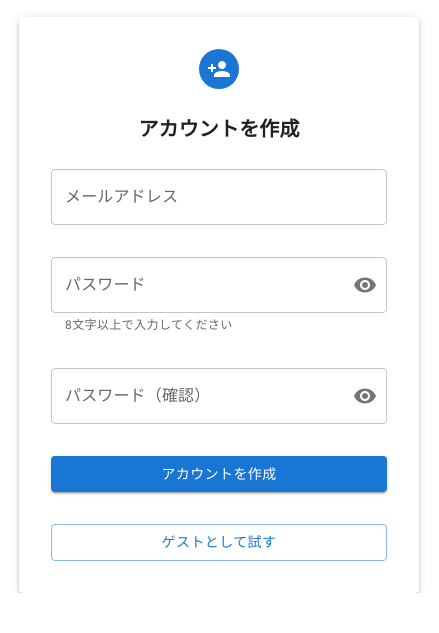
Test: AuthForm 異常系 › パスワードとパスワード確認が一致しないとエラーが表示され、送信できないこと
This screenshot has width=439, height=633.
Type "test@example.com" into the field labelled "メールアドレス".
click(219, 197); type("test@example.com")  # box [51, 169, 387, 225]
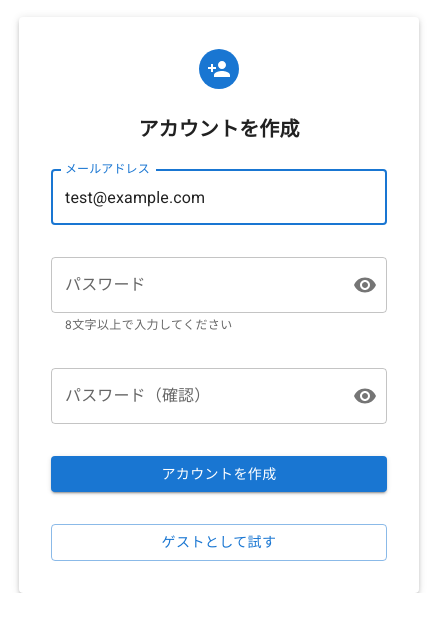
Type "password" into the password field labelled "パスワード".
click(194, 285); type("password")  # box [51, 257, 337, 313]
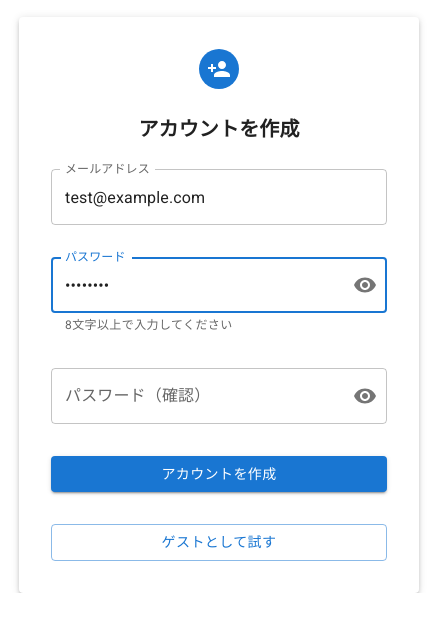
Type "wrong-password" into the password field labelled "パスワード（確認）".
click(194, 396); type("wrong-password")  # box [51, 368, 337, 424]
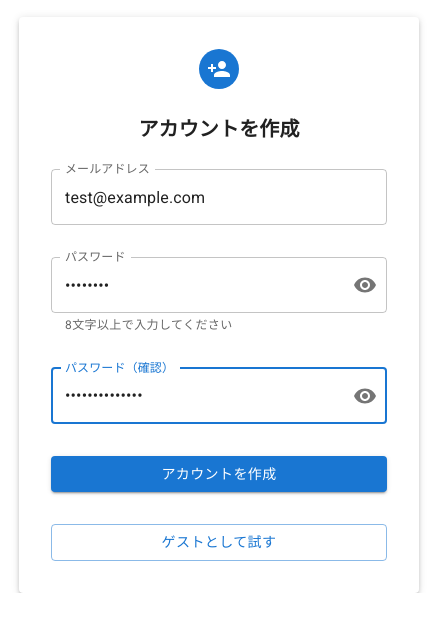
Click the button "アカウントを作成".
click(219, 474)  # box [51, 456, 387, 492]
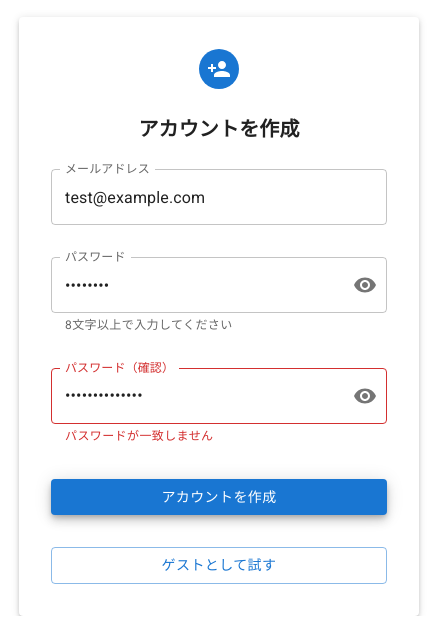
Expected: the text "パスワードが一致しません" is shown, [65, 429, 214, 443]
